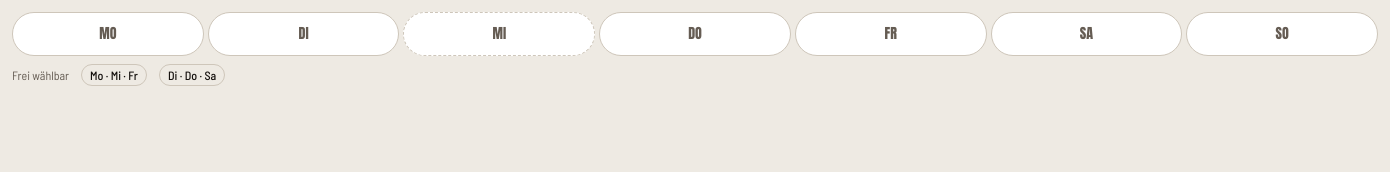
Test: WeekdayChips › applies a preset and hints at clashes
Click the button "Mo · Mi · Fr".
click(114, 75)  # box [81,64,147,86]
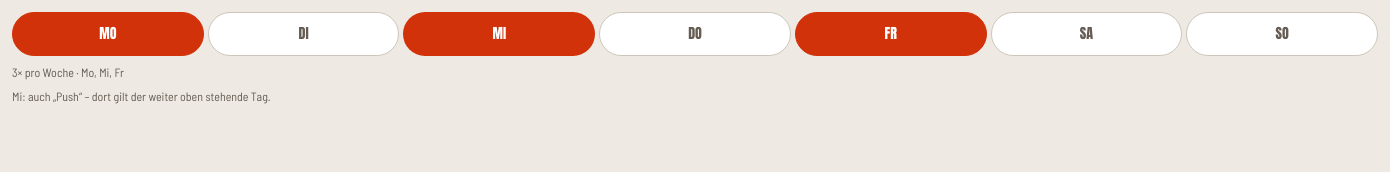
Now the text "3× pro Woche · Mo, Mi, Fr" is shown, box [12,64,124,80]
Now the button "Mo · Mi · Fr" is gone
Now the text "Mi: auch „Push“ – dort gilt der weiter oben stehende Tag." is shown, box [12,89,271,103]
